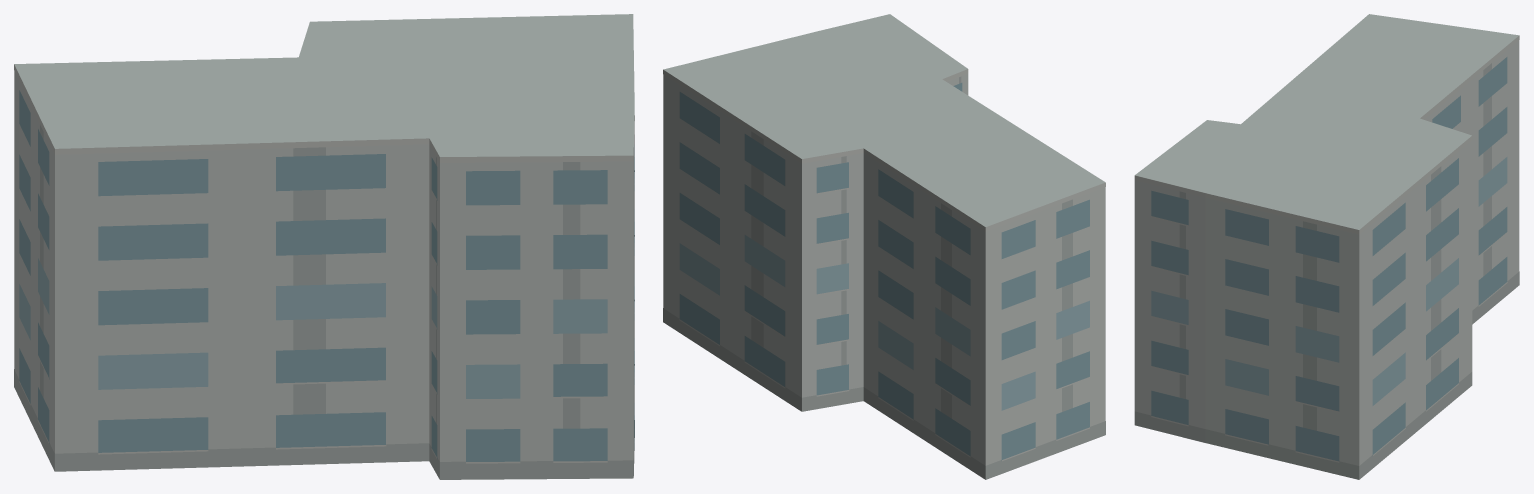
File: survey-upis-32817116.glb
The picture shows the model from 3 angles, left to right: view 1: azimuth 30°, elevation 25°; view 2: azimuth 150°, elevation 25°; view 3: azimuth 270°, elevation 25°; orthographic projection. The views are drawn at different scales.
Visible parts, largest first — view 1: survey-upis-32817116.tmp; view 2: survey-upis-32817116.tmp; view 3: survey-upis-32817116.tmp.
Part boxes in pixels (x1,y1,x2,y2): survey-upis-32817116.tmp: (14,14,634,479); survey-upis-32817116.tmp: (663,14,1105,479); survey-upis-32817116.tmp: (1134,14,1519,479).
Bounding box in the file's own units: 24.3 × 13.1 × 18.3.
